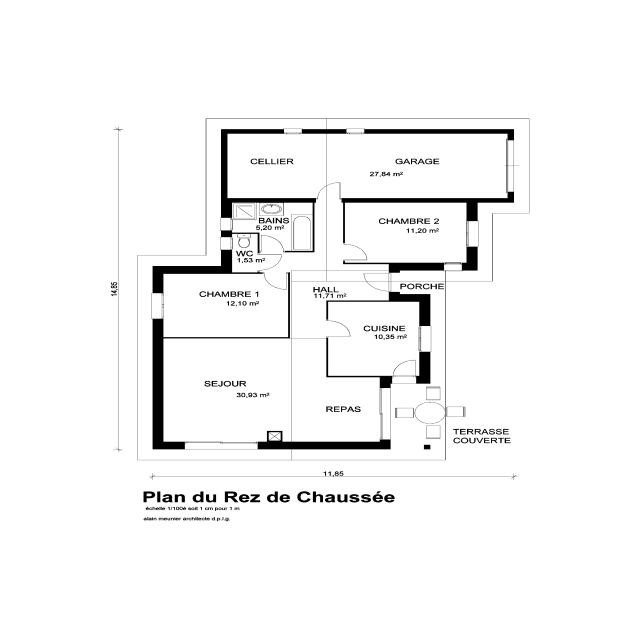door: (361, 270, 395, 292), (313, 182, 348, 202), (390, 358, 419, 382), (340, 242, 370, 262), (324, 318, 352, 337), (258, 234, 284, 254), (262, 272, 289, 290), (260, 254, 282, 270), (441, 262, 465, 272)
window: (182, 439, 255, 449), (502, 140, 514, 193), (463, 219, 481, 250), (150, 290, 166, 322), (418, 324, 433, 355), (441, 262, 467, 272), (342, 127, 369, 136), (280, 127, 306, 136), (220, 216, 234, 232), (220, 235, 232, 251)
zone: (156, 336, 389, 444), (324, 133, 510, 199), (159, 272, 290, 338), (339, 202, 471, 262), (326, 300, 423, 376), (224, 134, 328, 198), (230, 202, 321, 250), (230, 234, 260, 272)
